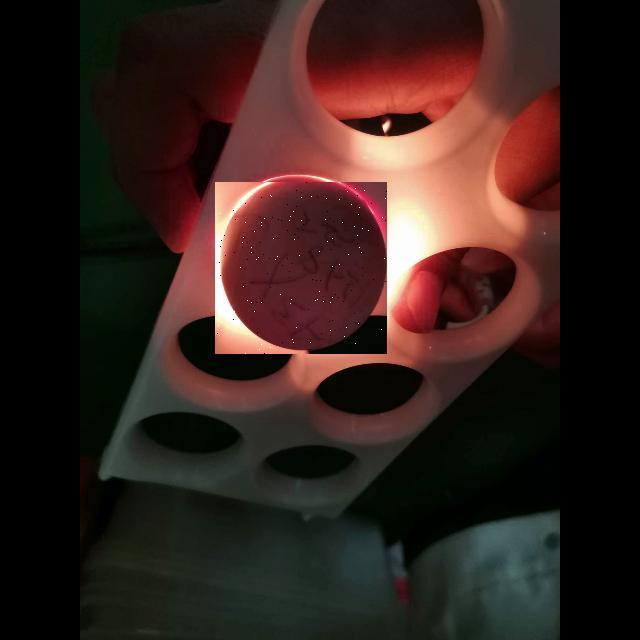A - Good: (212, 180, 384, 349)
